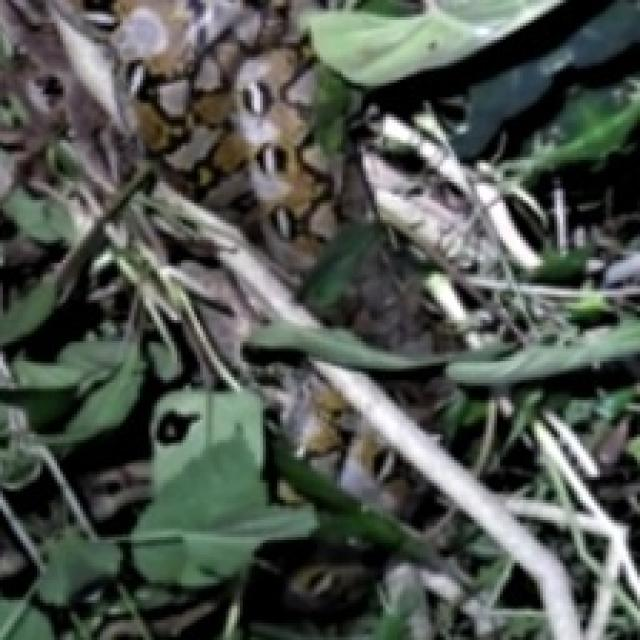reticulated python: (112, 0, 338, 273), (281, 368, 418, 518)
